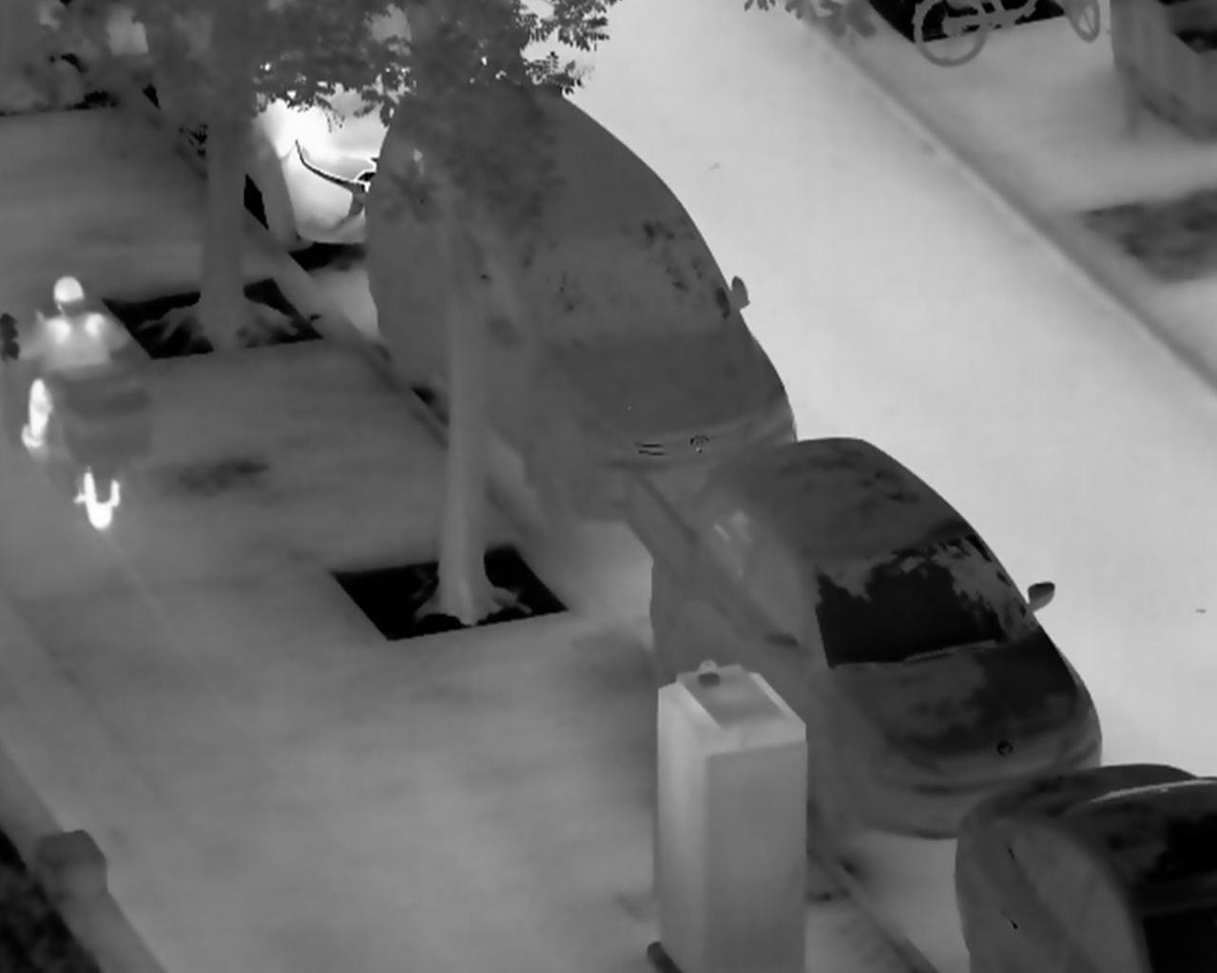person: (18, 272, 132, 460)
